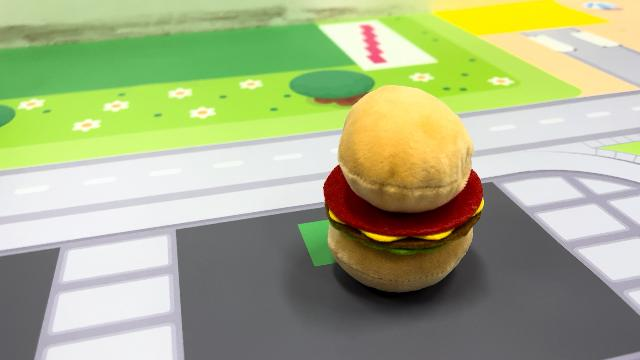burger: (318, 81, 488, 295)
